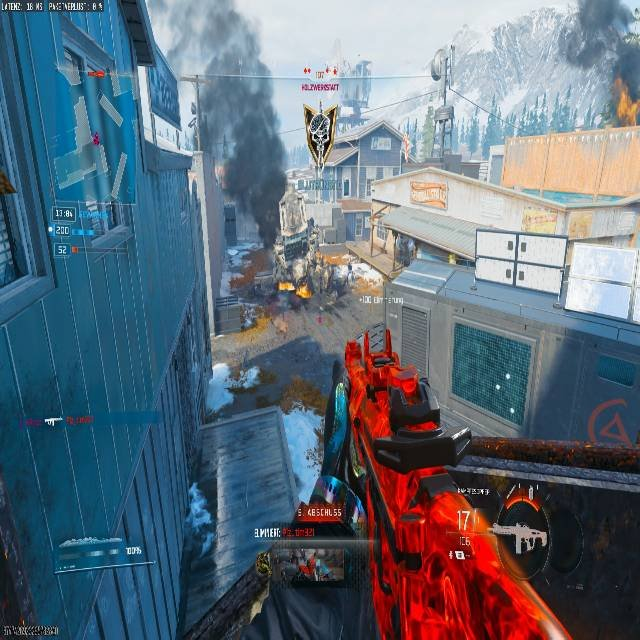head: (367, 322, 388, 350), (307, 216, 314, 226)
player: (305, 216, 320, 261)
